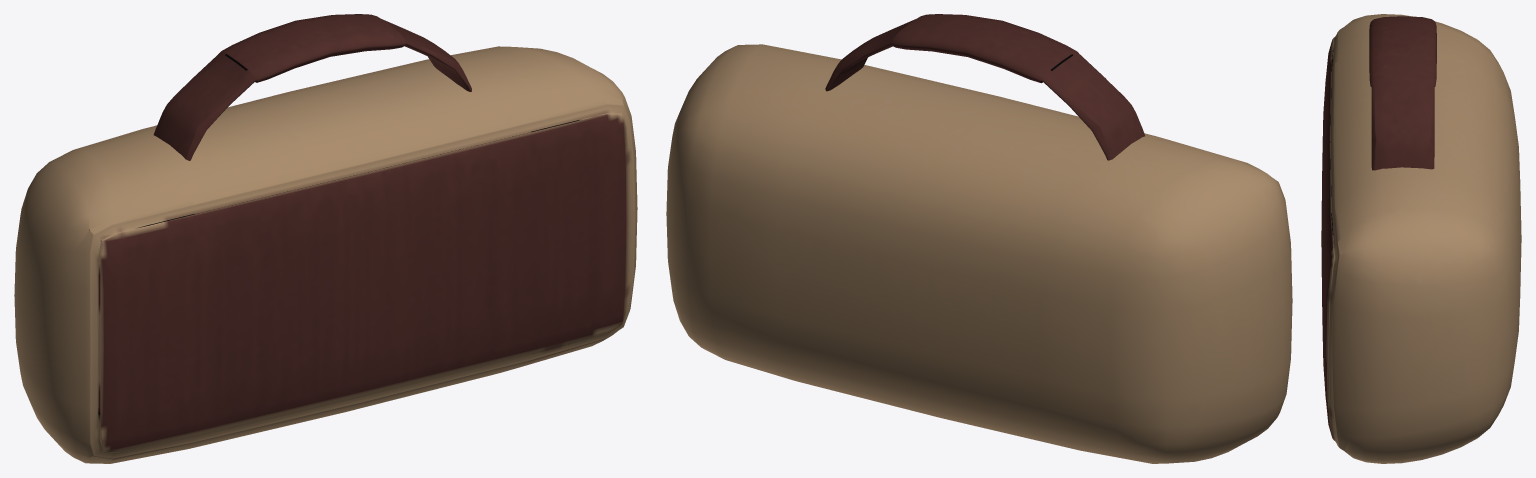
The model's file is MedKit.fbx.
The picture shows the model from 3 angles, left to right: view 1: azimuth 30°, elevation 25°; view 2: azimuth 150°, elevation 25°; view 3: azimuth 270°, elevation 25°; orthographic projection. The views are drawn at different scales.
Visible parts, largest first — view 1: MedKit; view 2: MedKit; view 3: MedKit.
Part boxes in pixels (box(x1,y1,x2,y2)): MedKit: box(14, 14, 637, 463); MedKit: box(666, 14, 1292, 463); MedKit: box(1321, 14, 1521, 463).
Bounding box in the file's own units: 72.81 × 44.66 × 24.72.
